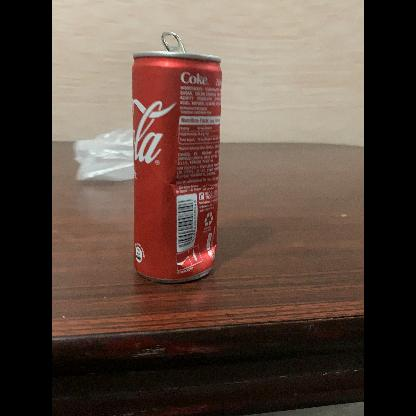Dent_Can: (161, 169, 219, 202), (172, 233, 212, 274)
Lid_Open: (158, 25, 194, 57)
Tin_Can: (119, 27, 222, 287)
